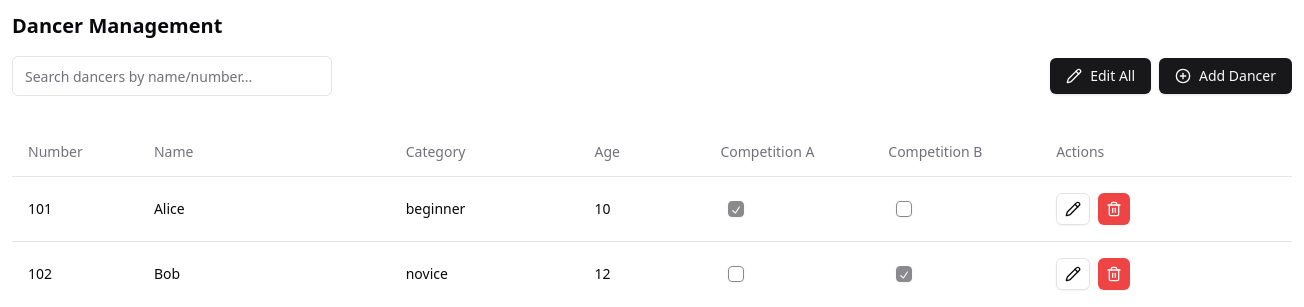
it: DancerManagement › enters batch edit mode when "Edit All" is clicked
Step 1. Click the button "Edit All" → (1101, 76), box top-left (1050, 58), bottom-right (1151, 94)
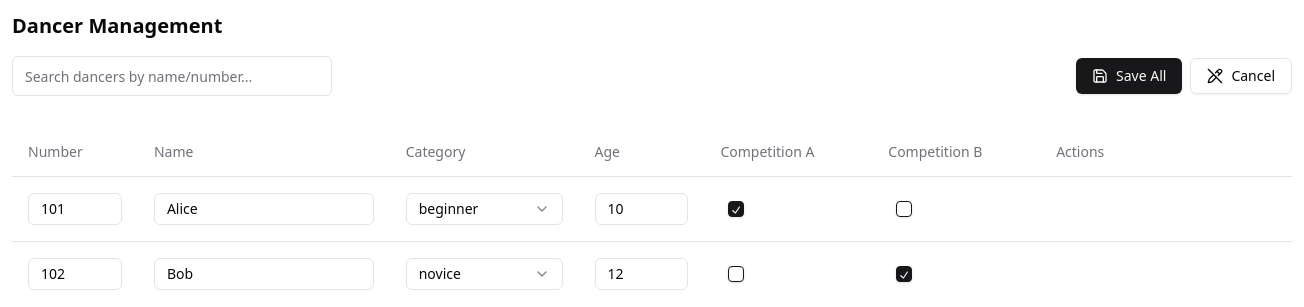
Now the button "Save All" is shown, box top-left (1076, 58), bottom-right (1182, 94)
Now the button "Cancel" is shown, box top-left (1190, 58), bottom-right (1292, 94)
